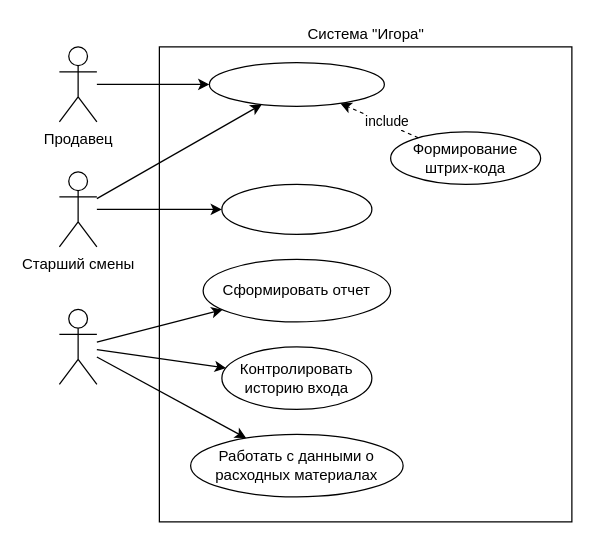
This 594x544 diagram has some shape labels left out. Here are the shapes that lost their labels. From the top down, the centre of each, then its label:
At point 296,83: "Сформировать заказ".
At point 296,208: "Принять товар".
At point 77,346: "Администратор".
